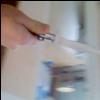melee: (0, 4, 100, 58)
